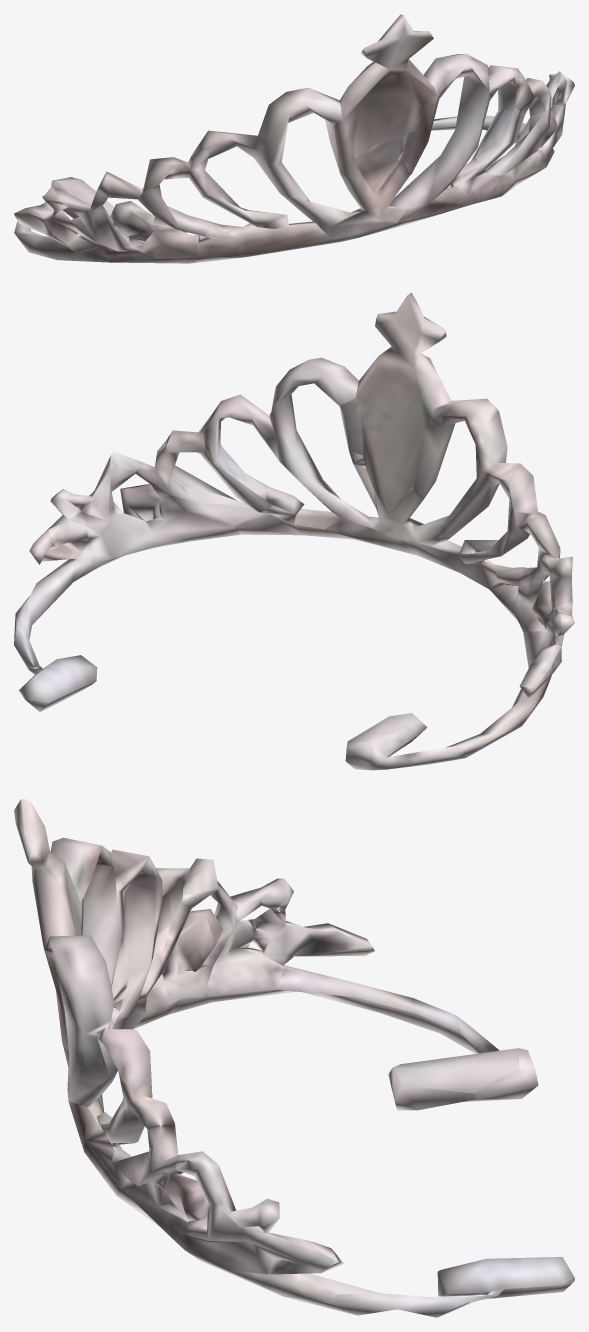
The picture shows the model from 3 angles, top to bottom: view 1: azimuth 30°, elevation 25°; view 2: azimuth 150°, elevation 25°; view 3: azimuth 270°, elevation 25°; orthographic projection. The views are drawn at different scales.
Visible parts, largest first — view 1: Silver-Tiara-20; view 2: Silver-Tiara-20; view 3: Silver-Tiara-20.
Boxes of the visible parts, bbox=[...] form: Silver-Tiara-20: bbox=[14, 14, 574, 263]; Silver-Tiara-20: bbox=[14, 292, 574, 770]; Silver-Tiara-20: bbox=[14, 799, 574, 1317].
Bounding box in the file's own units: 0.3142 × 0.1761 × 0.2245.
Materials: 1 (1 with a texture image).
